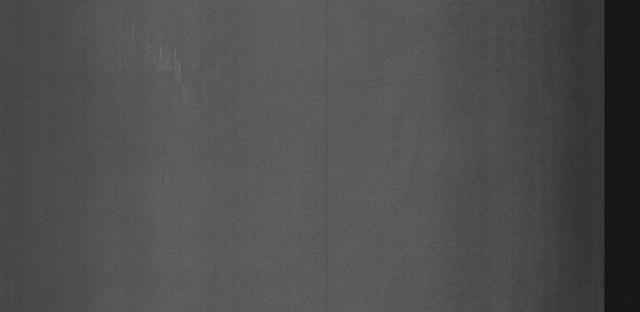silk_spot: (127, 33, 197, 93)
